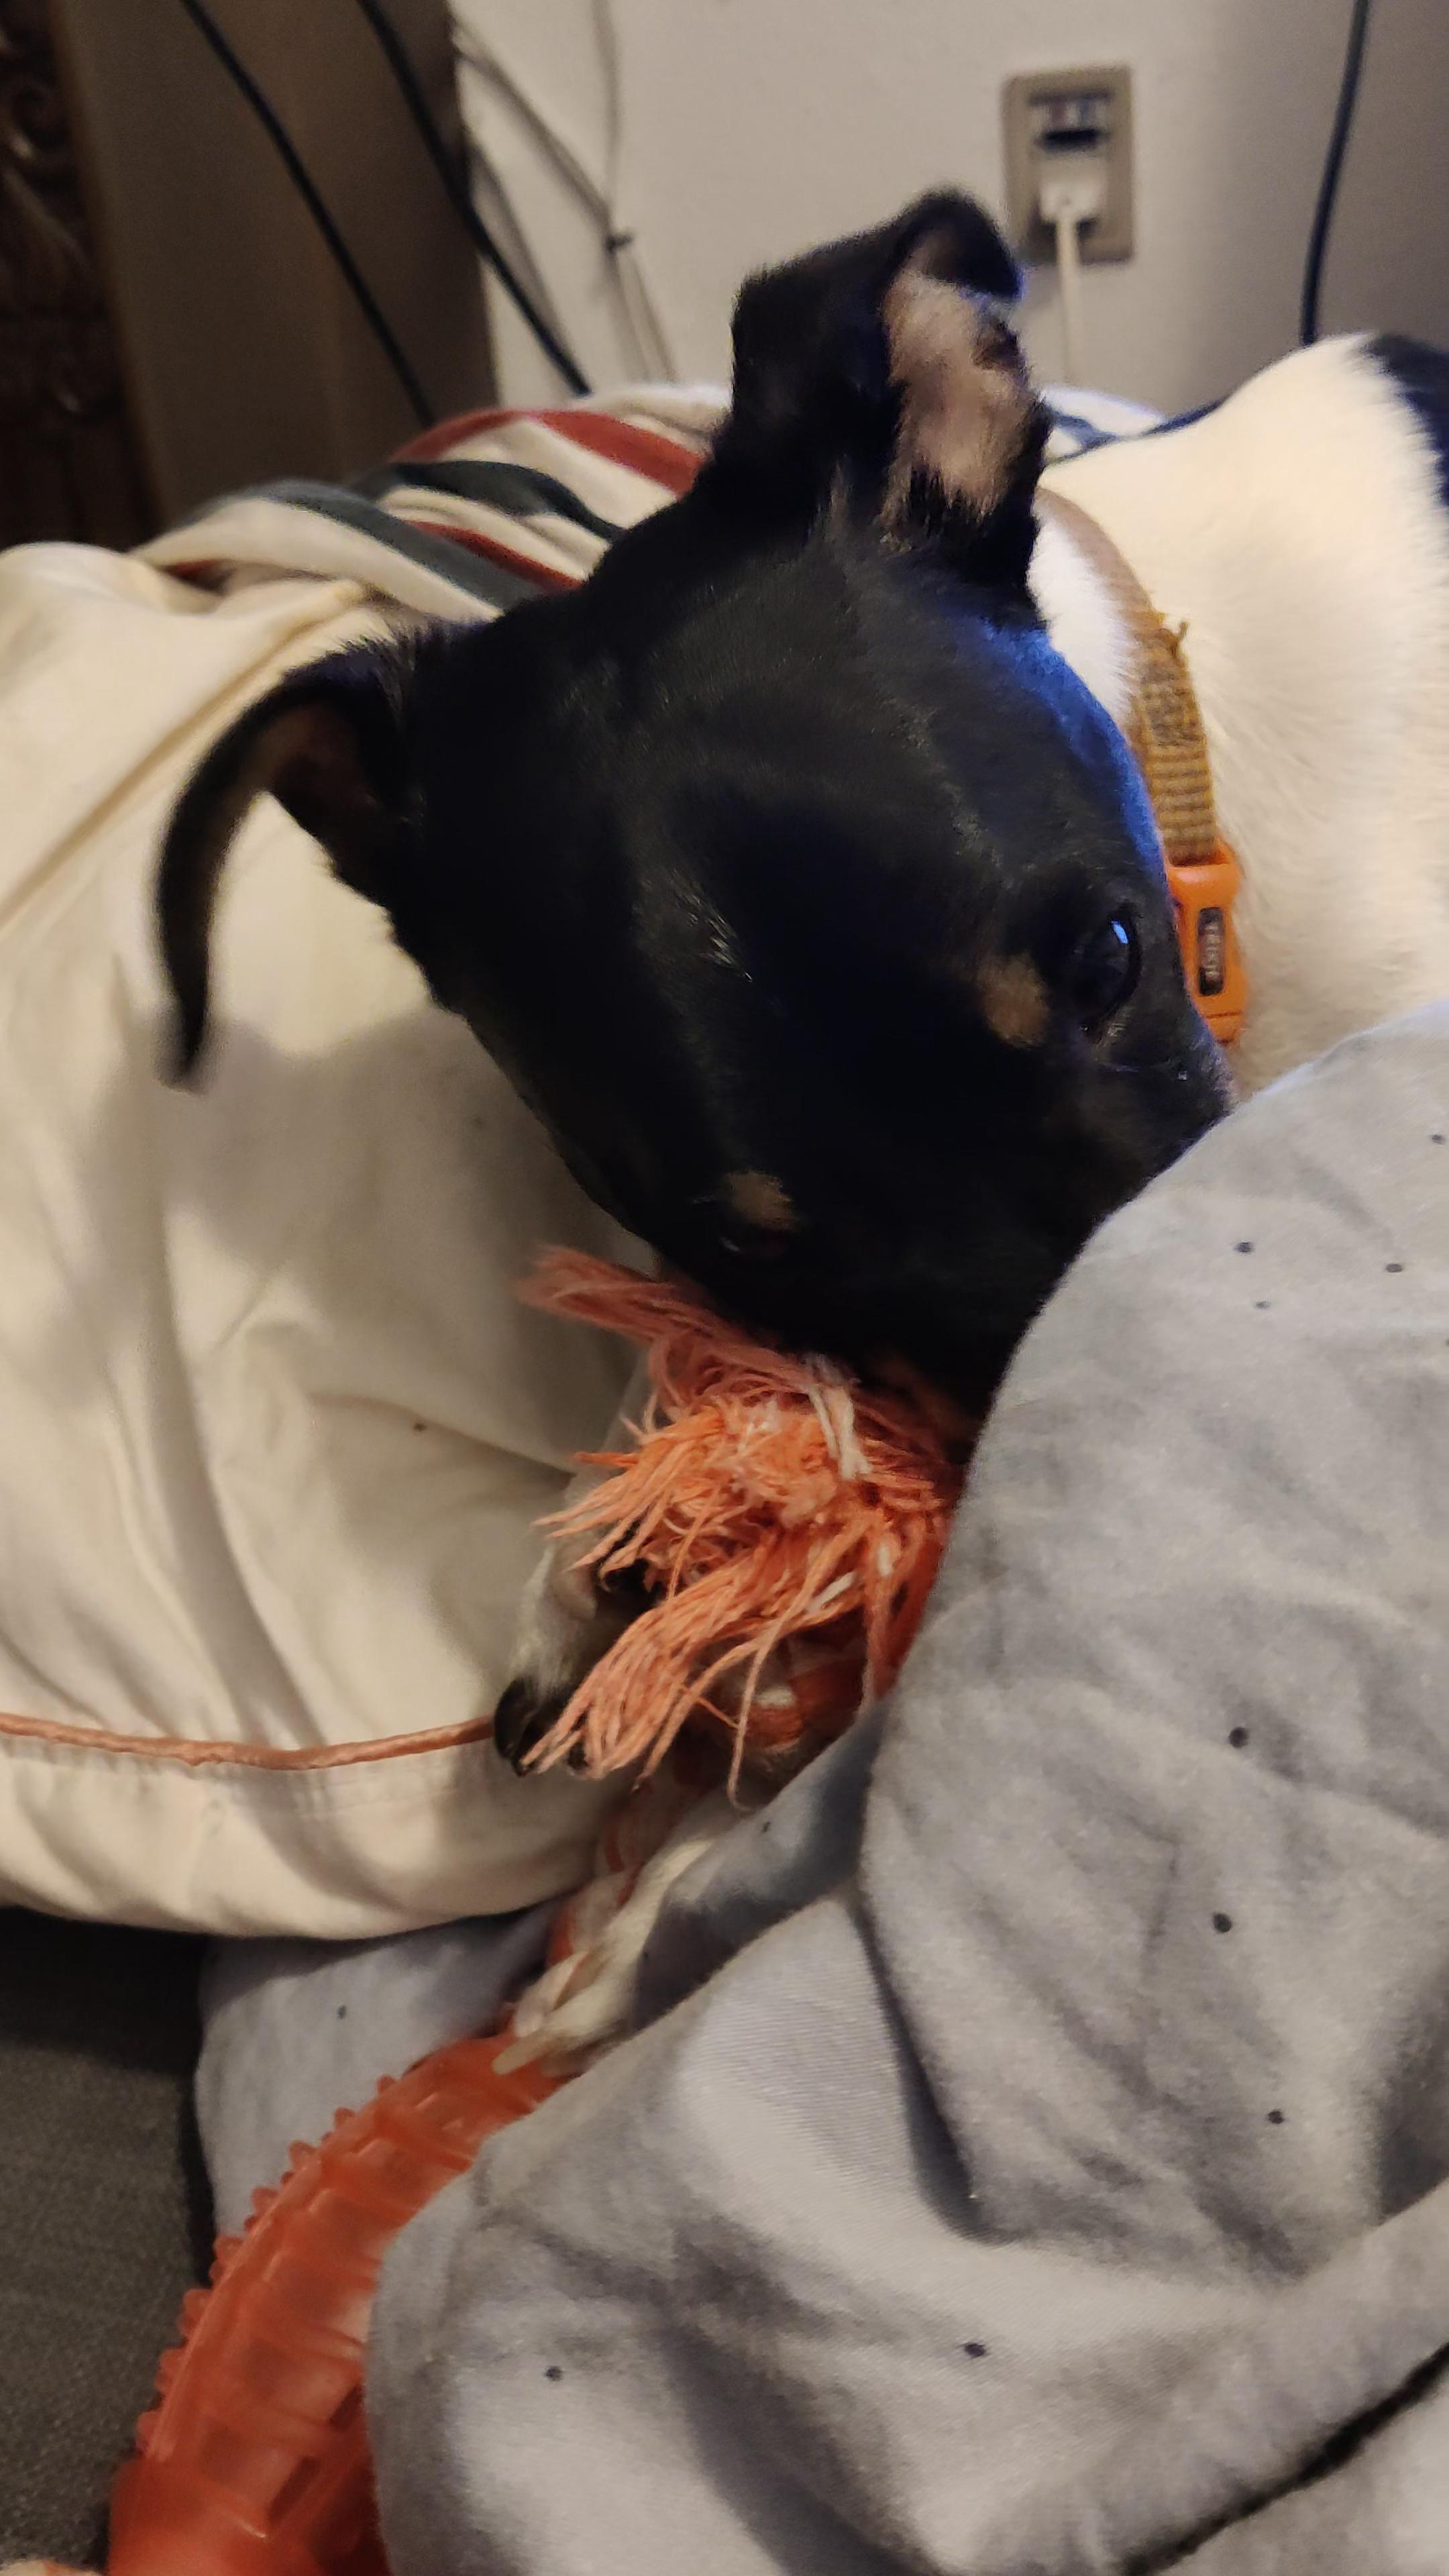Dog: (145, 175, 1449, 1776)
